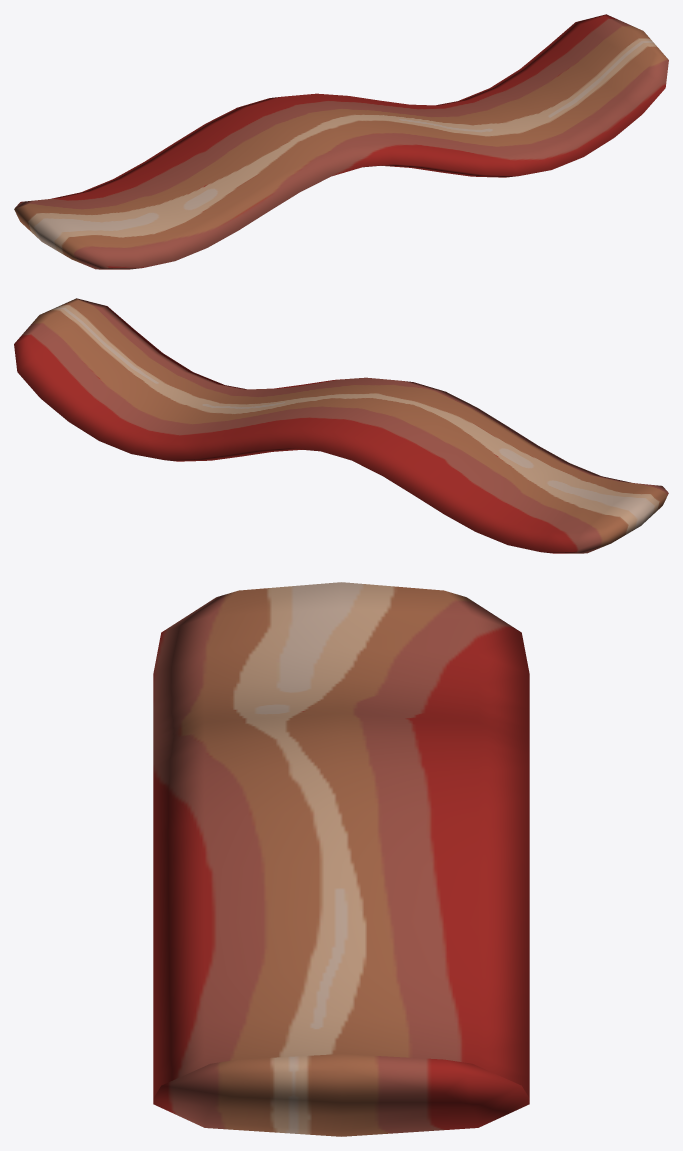
The model's file is Bacon.fbx.
3 renders of one model, top to bottom at view 1: azimuth 30°, elevation 25°; view 2: azimuth 150°, elevation 25°; view 3: azimuth 270°, elevation 25°, orthographic. The views are drawn at different scales.
Parts seen in each view (by area): view 1: Bacon; view 2: Bacon; view 3: Bacon.
Boxes of the visible parts, x1,y1,x2,y2 form: Bacon: (14, 14, 668, 269); Bacon: (14, 298, 668, 553); Bacon: (153, 582, 529, 1136).
Size of the model in its own units: 129 by 17.89 by 34.61.
Materials: 1 (1 with a texture image).
